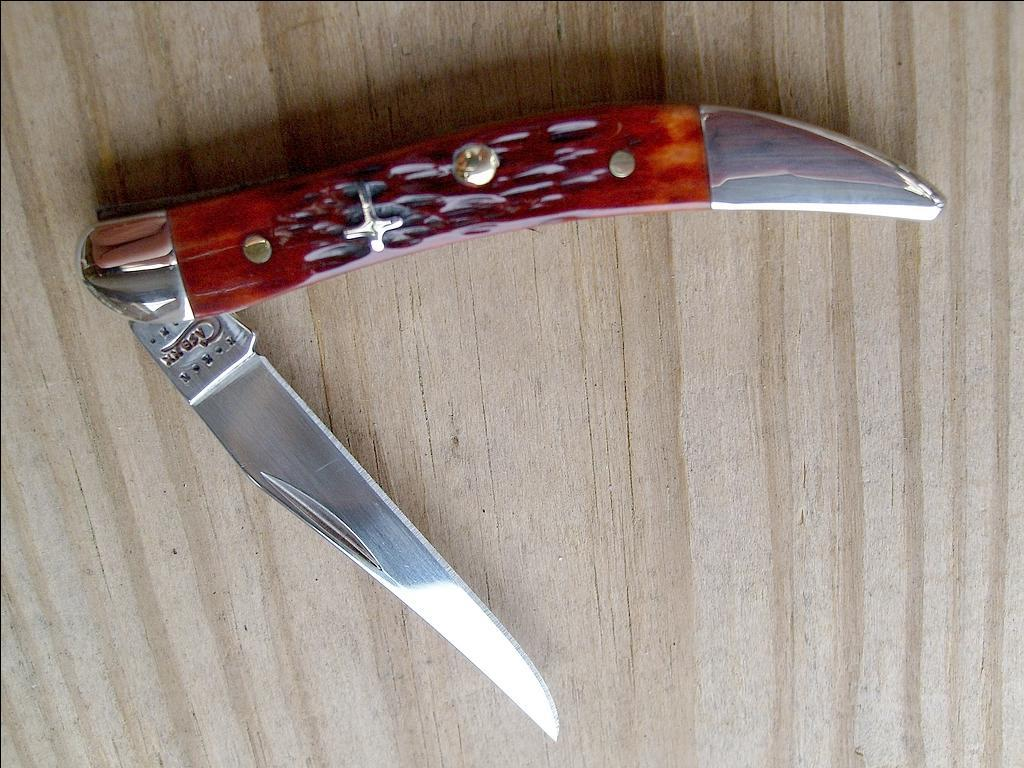melee: (76, 103, 942, 742)
